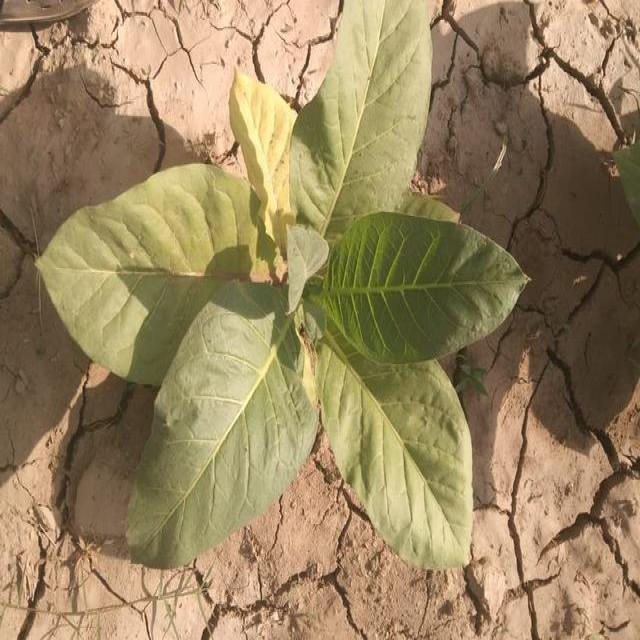crop: (38, 3, 512, 568)
